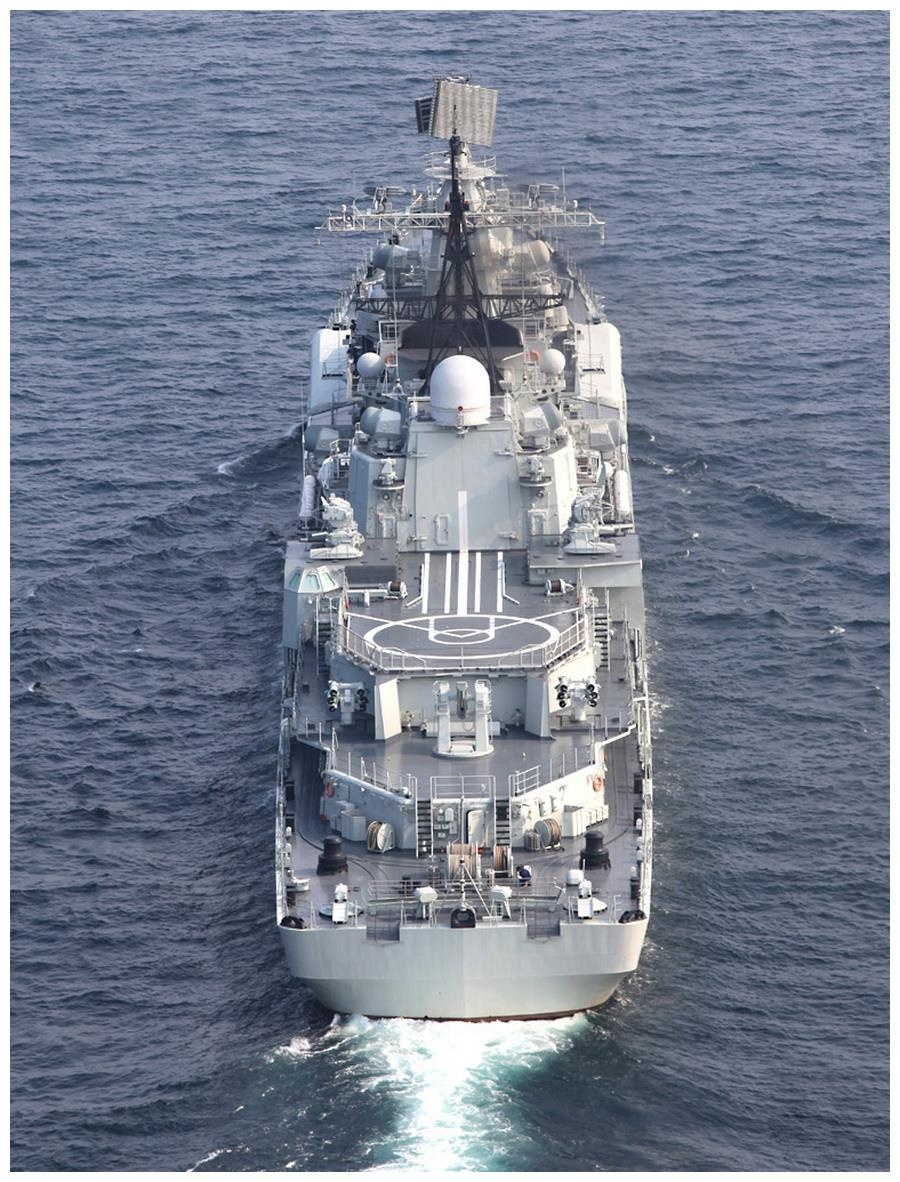warship: (260, 82, 667, 1022)
